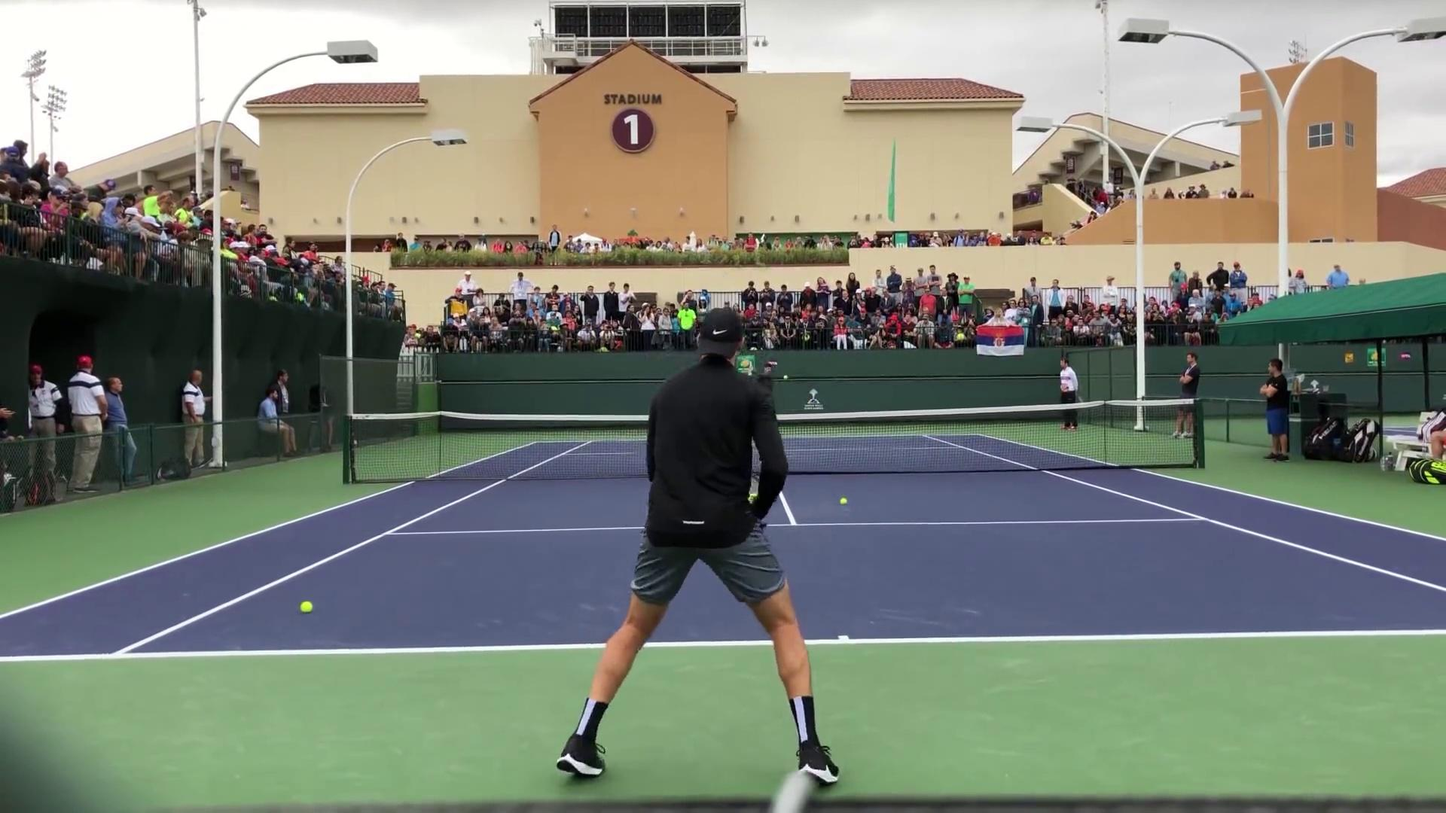ball: (297, 598, 314, 615), (839, 498, 848, 505), (784, 374, 789, 379)
